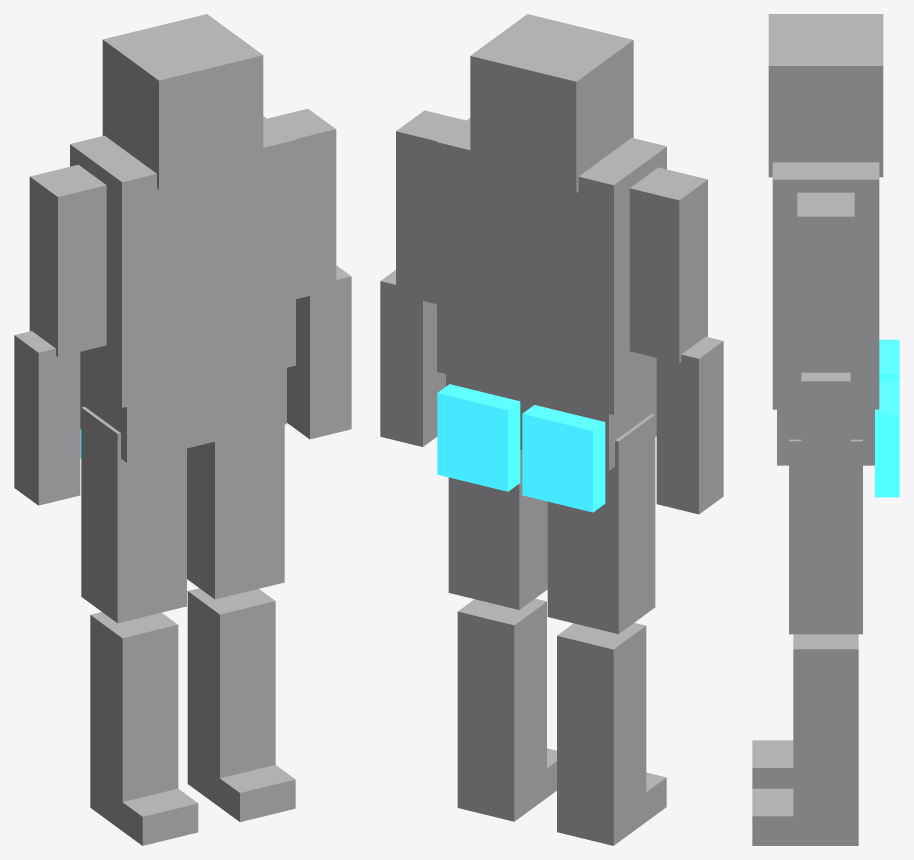
Rendered from glutes.glb.
3 views of the same model, side by side, from view 1: azimuth 30°, elevation 25°; view 2: azimuth 150°, elevation 25°; view 3: azimuth 270°, elevation 25° (orthographic).
Visible parts, largest first — view 1: Mannequin; view 2: Mannequin; view 3: Mannequin.
Boxes of the visible parts, <box> form: Mannequin: <box>14,14,351,845</box>; Mannequin: <box>380,14,723,845</box>; Mannequin: <box>752,14,899,845</box>.
Bounding box in the file's own units: 0.9 × 2.07 × 0.36.
